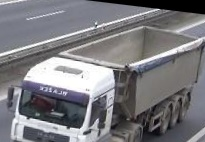truck: (1, 12, 205, 142)
